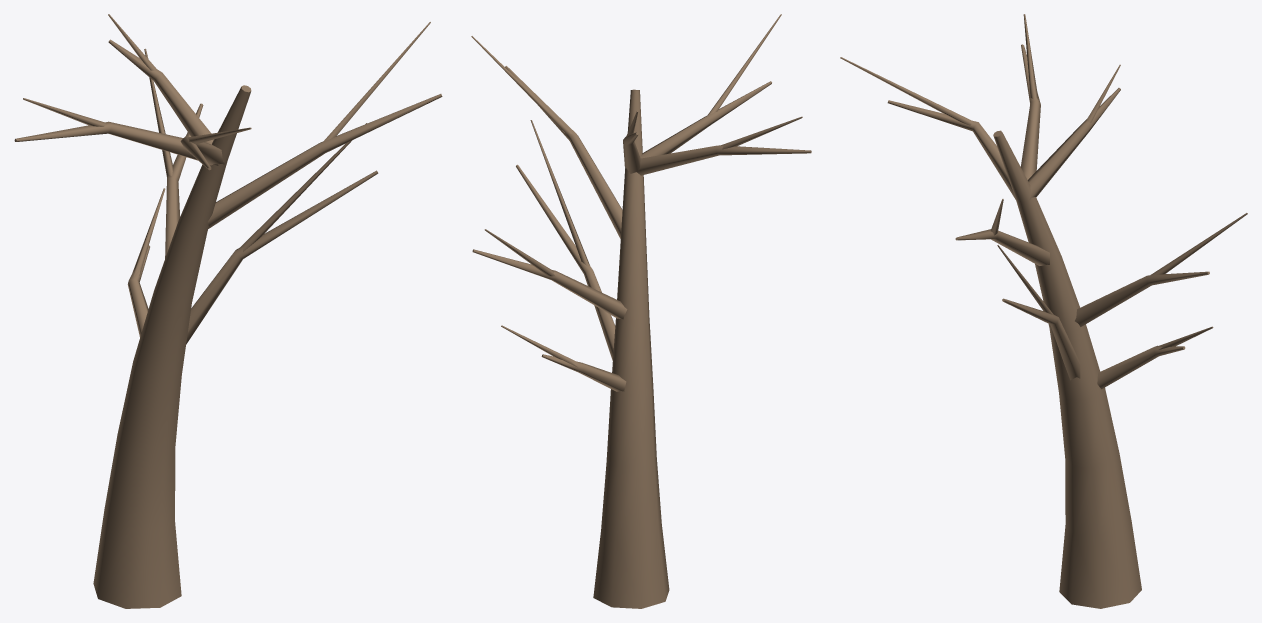
File: tree_dead.fbx
3 renders of one model, left to right at view 1: azimuth 30°, elevation 25°; view 2: azimuth 150°, elevation 25°; view 3: azimuth 270°, elevation 25°, orthographic. The views are drawn at different scales.
Visible parts, largest first — view 1: tree_dead_LOD0; view 2: tree_dead_LOD0; view 3: tree_dead_LOD0.
Boxes of the visible parts, left/top/right/bottom form: tree_dead_LOD0: left=14, top=14, right=442, bottom=608; tree_dead_LOD0: left=471, top=14, right=811, bottom=608; tree_dead_LOD0: left=840, top=14, right=1247, bottom=608.
Size of what is drawn, in the model's own units: 5.12 by 6.96 by 4.93.
